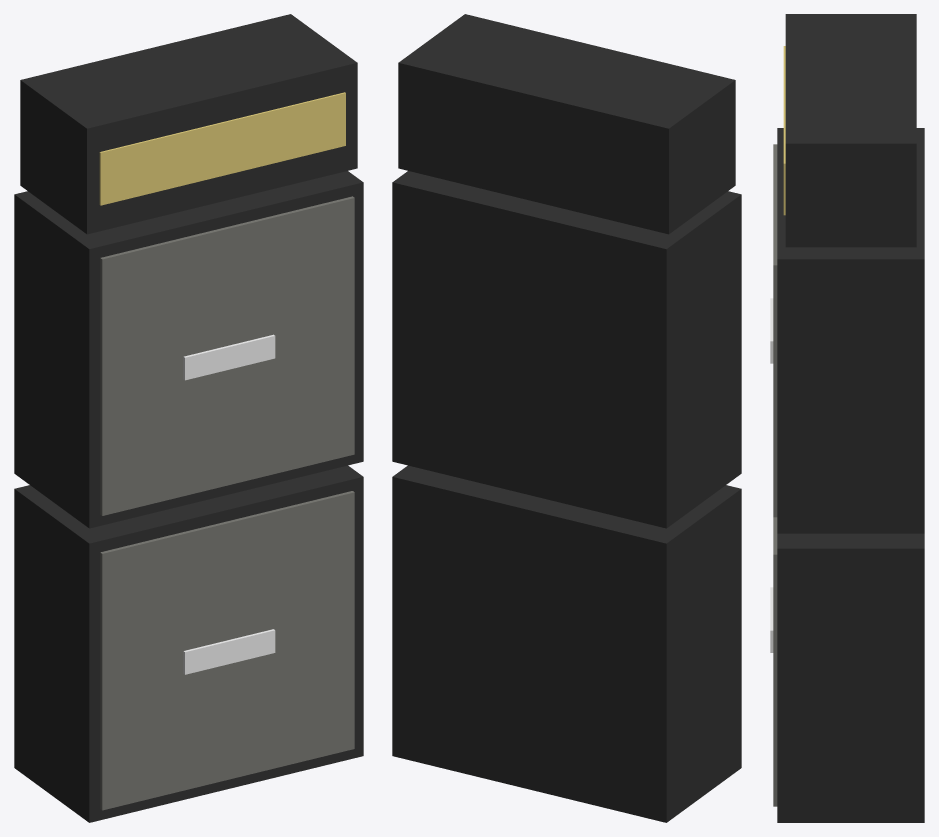
Rendered from concert_marshall_stack.glb.
The picture shows the model from 3 angles, left to right: view 1: azimuth 30°, elevation 25°; view 2: azimuth 150°, elevation 25°; view 3: azimuth 270°, elevation 25°; orthographic projection.
Parts seen in each view (by area): view 1: Concert_Marshall_Amp_Stack; view 2: Concert_Marshall_Amp_Stack; view 3: Concert_Marshall_Amp_Stack.
Part boxes in pixels (x1=…): Concert_Marshall_Amp_Stack: x1=14, y1=14, x2=363, y2=822; Concert_Marshall_Amp_Stack: x1=392, y1=14, x2=741, y2=822; Concert_Marshall_Amp_Stack: x1=770, y1=14, x2=924, y2=822.
Size of the model in its own units: 0.76 by 1.83 by 0.3775.
